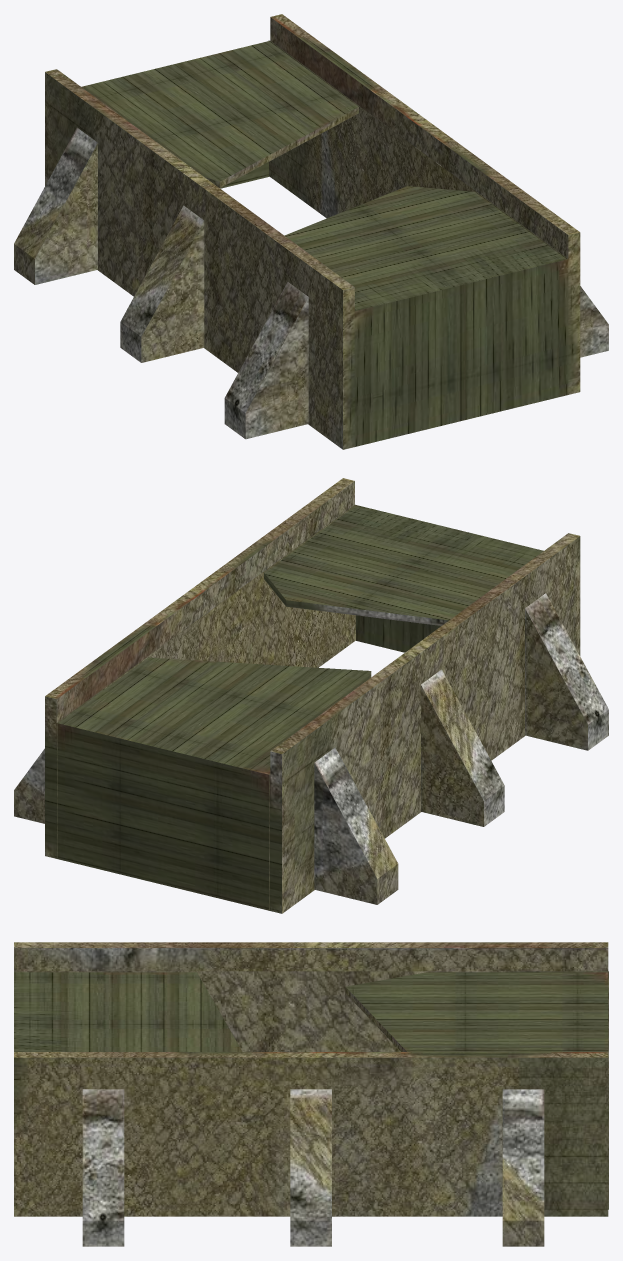
Rendered from Ponte2.fbx.
3 renders of one model, top to bottom at view 1: azimuth 30°, elevation 25°; view 2: azimuth 150°, elevation 25°; view 3: azimuth 270°, elevation 25°, orthographic.
Parts seen in each view (by area): view 1: Ponte2; view 2: Ponte2; view 3: Ponte2.
Part boxes in pixels (x1,y1,x2,y2): Ponte2: [14, 14, 608, 449]; Ponte2: [14, 478, 608, 913]; Ponte2: [14, 942, 608, 1246].
Size of the model in its own units: 1066 by 1517 by 448.
